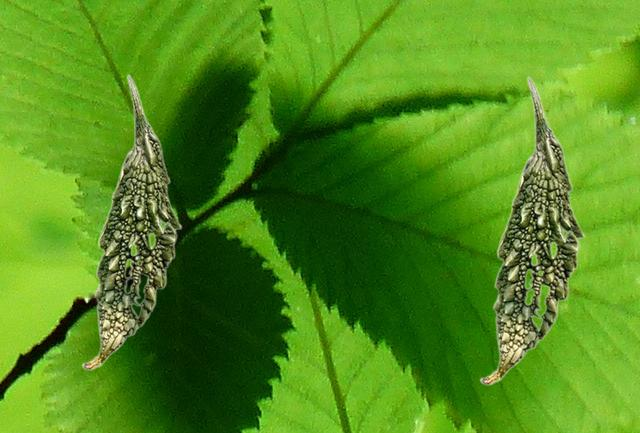ampalaya: (479, 75, 584, 384), (81, 73, 181, 369)
